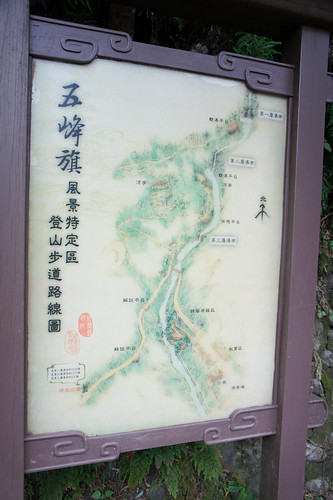wufengciMap: (35, 76, 284, 328)
